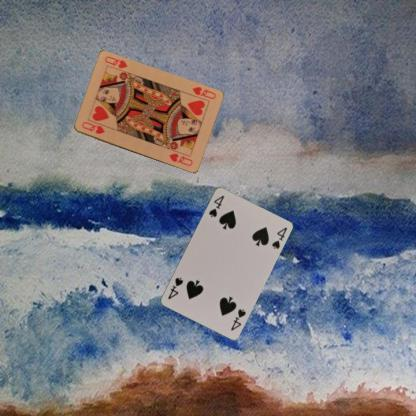4s: (206, 192, 226, 218), (228, 306, 247, 332)
Qh: (80, 119, 106, 135), (190, 84, 216, 100)
